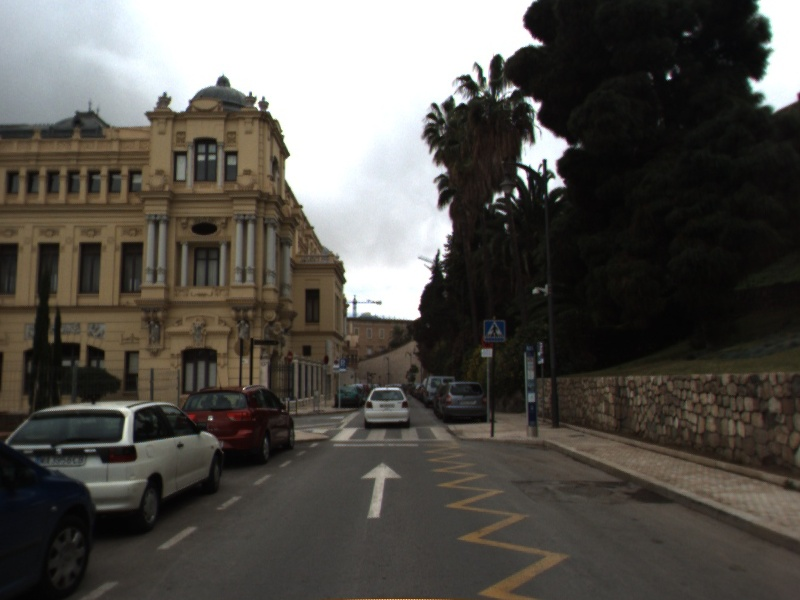STRAIGHT: (358, 460, 404, 520)
